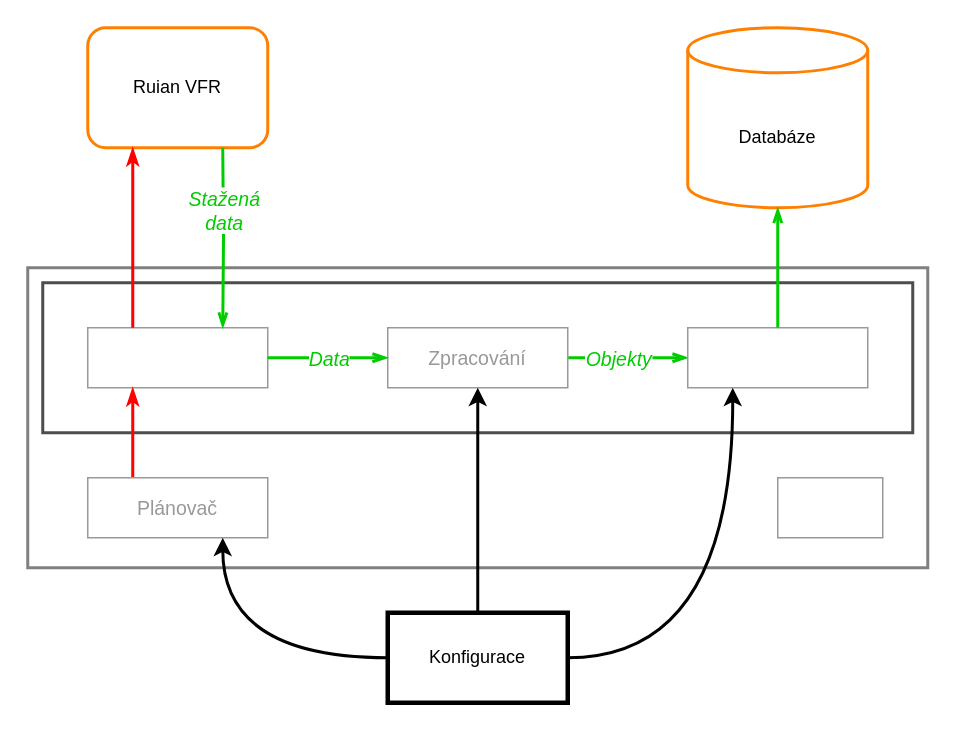
Some shapes in this 954 by 731 pixel diagram are drawn without their labels. Each missing label, with the centre of its shape:
JDBC: (x=777, y=357)
Logování: (x=829, y=507)
Stahování: (x=177, y=357)
